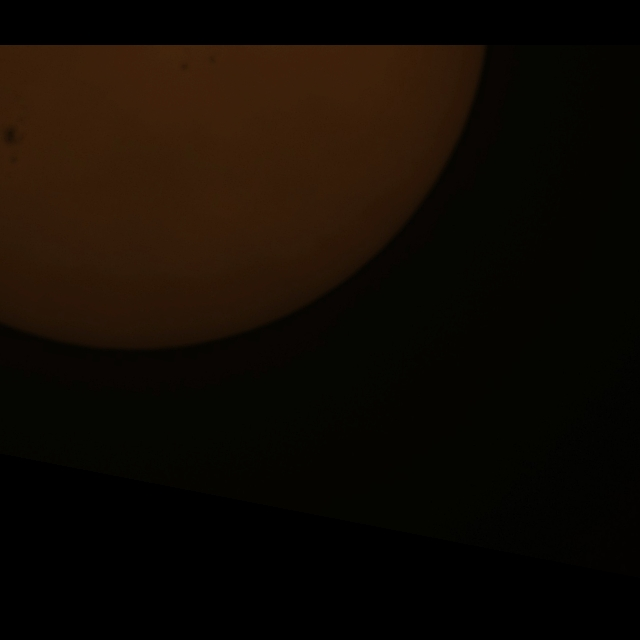sunspot: (0, 112, 36, 171), (169, 51, 235, 77)
